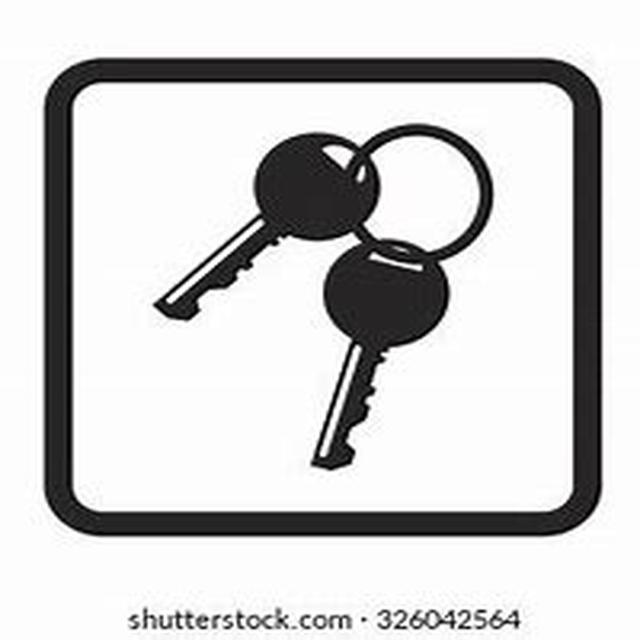key: (137, 97, 382, 346), (290, 242, 456, 478)
